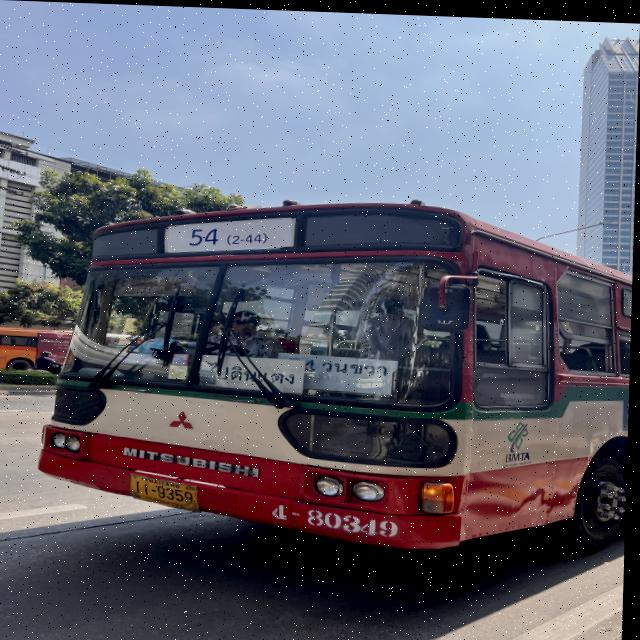BMTA-bus: (39, 189, 636, 555)
Bus-Line-Number: (170, 222, 275, 251)
Destination-Sign-Normal: (283, 351, 405, 392)
